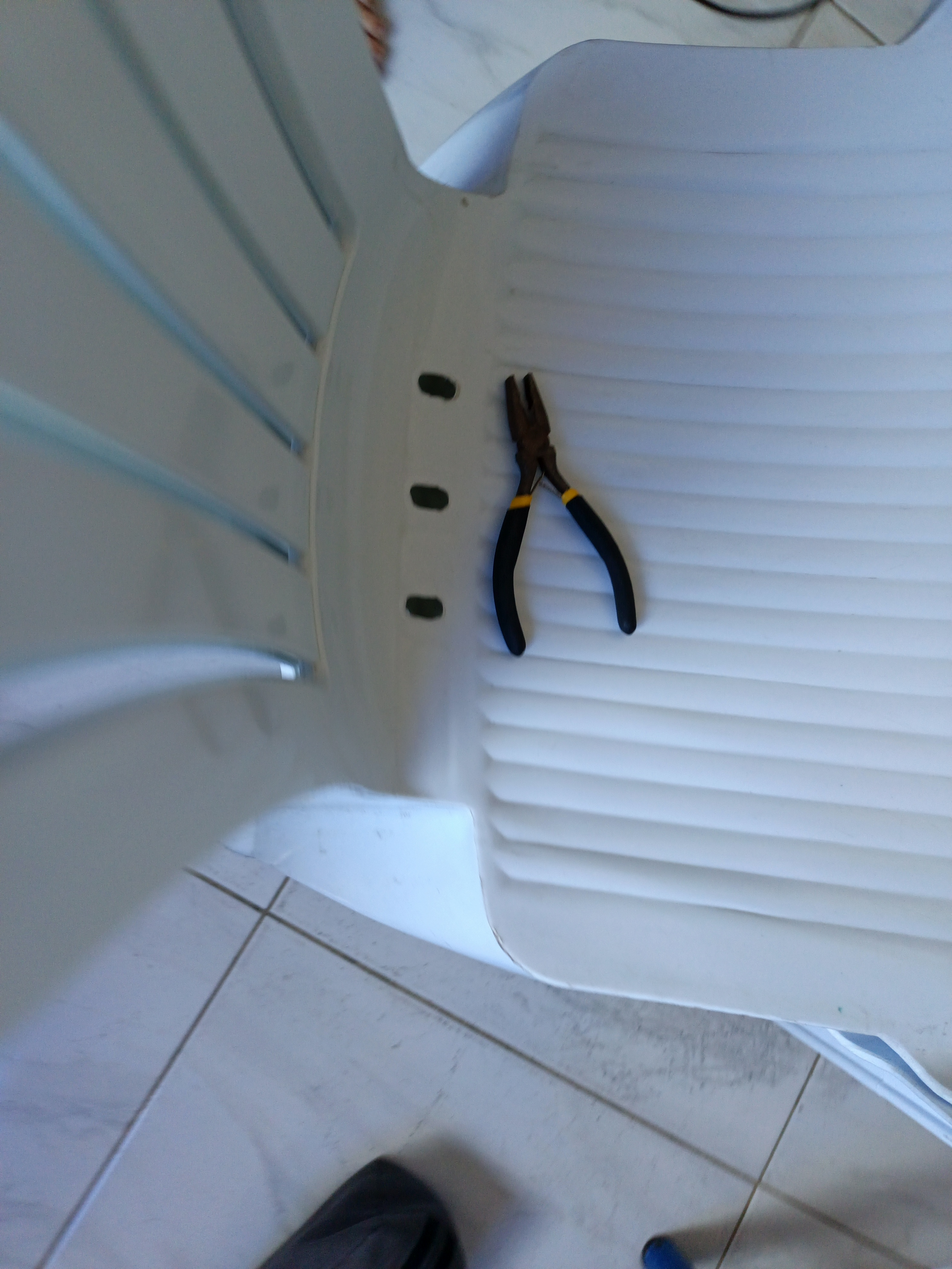Pinzas: (493, 372, 636, 656)
